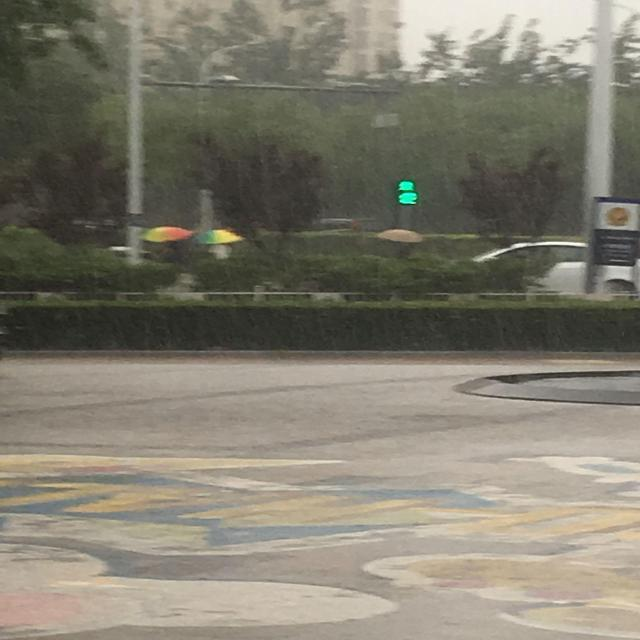car: (474, 236, 638, 294)
